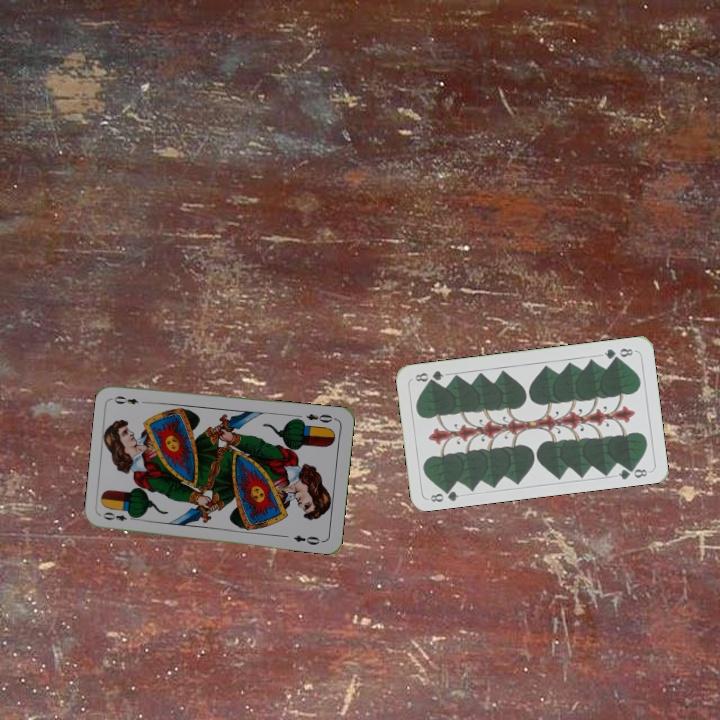EO: (99, 508, 139, 524), (302, 409, 338, 425)
G8: (426, 484, 461, 505), (600, 344, 636, 362)
